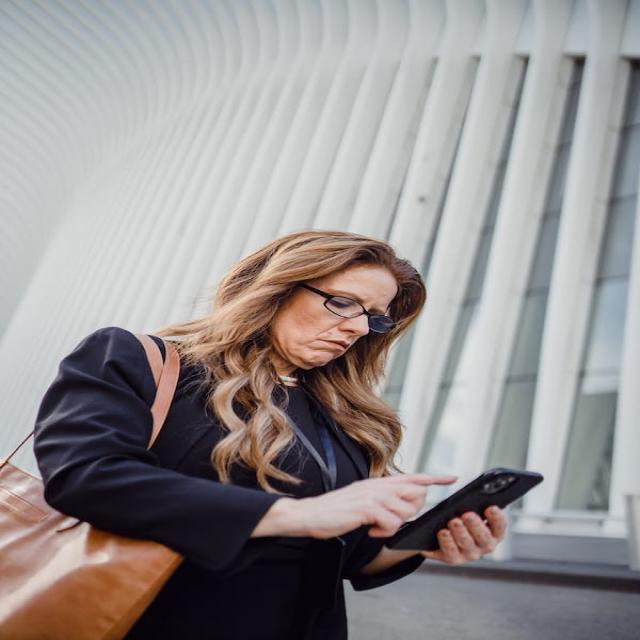phone: (382, 464, 543, 550)
